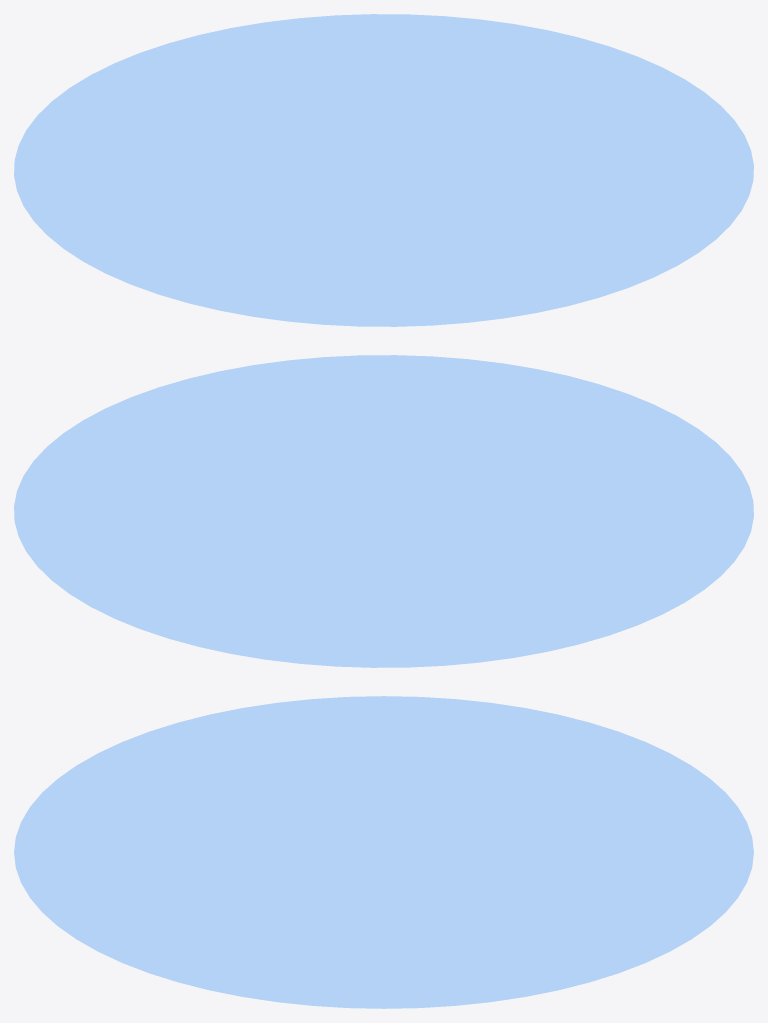
File: landzone.gltf
3 renders of one model, top to bottom at view 1: azimuth 30°, elevation 25°; view 2: azimuth 150°, elevation 25°; view 3: azimuth 270°, elevation 25°, orthographic.
Visible parts, largest first — view 1: collesium.001; view 2: collesium.001; view 3: collesium.001.
Boxes of the visible parts, box(x1,y1,x2,y2) form: collesium.001: box(14, 14, 753, 326); collesium.001: box(14, 355, 753, 667); collesium.001: box(14, 696, 753, 1008).
Size of the model in its own units: 48.23 by 0 by 48.23.
